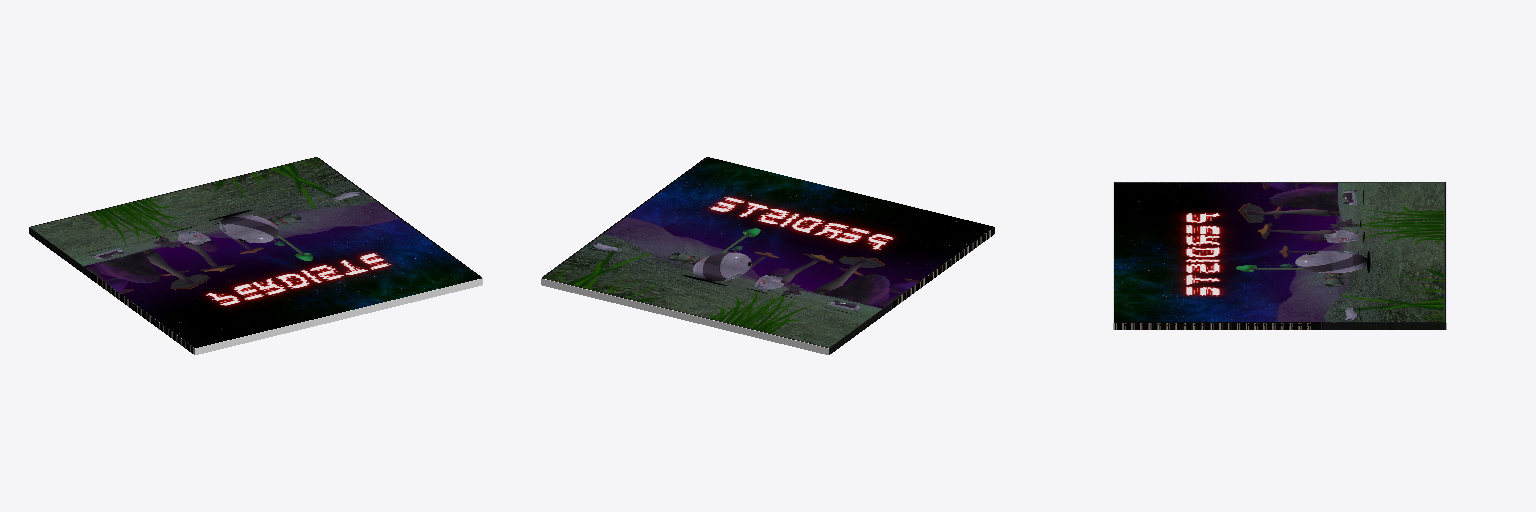
The picture shows the model from 3 angles: view 1: azimuth 30°, elevation 25°; view 2: azimuth 150°, elevation 25°; view 3: azimuth 270°, elevation 25°; orthographic projection.
Parts seen in each view (by area): view 1: Plane; view 2: Plane; view 3: Plane.
Boxes of the visible parts, x1=… form: Plane: x1=29, y1=157, x2=482, y2=354; Plane: x1=541, y1=157, x2=994, y2=354; Plane: x1=1113, y1=182, x2=1446, y2=329.
Bounding box in the file's own units: 4 × 0.0914 × 4.
Materials: 1 (1 with a texture image).